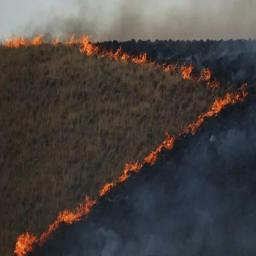Low smoke: (110, 203, 253, 253), (41, 2, 256, 35)
Small fire: (64, 132, 192, 201), (174, 88, 247, 130), (30, 197, 102, 238), (82, 40, 149, 64), (152, 61, 215, 83), (2, 35, 90, 47), (12, 228, 45, 256)
